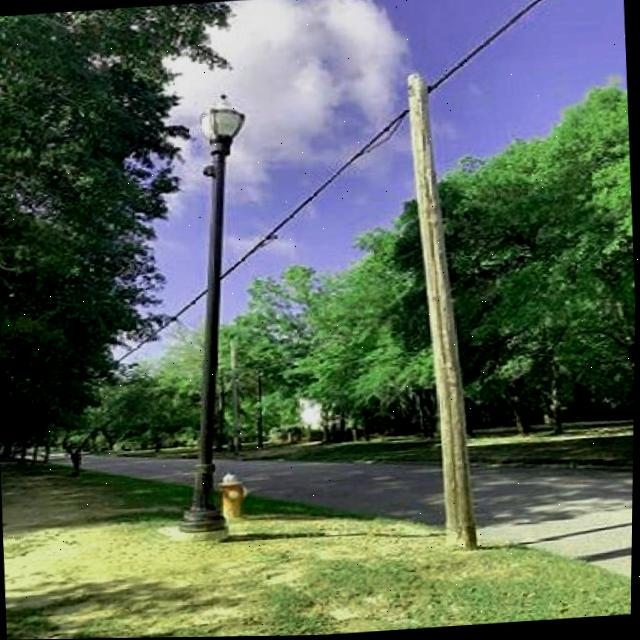poles: (402, 72, 483, 554)
wires: (230, 110, 410, 284), (425, 0, 571, 93), (116, 279, 215, 355)
